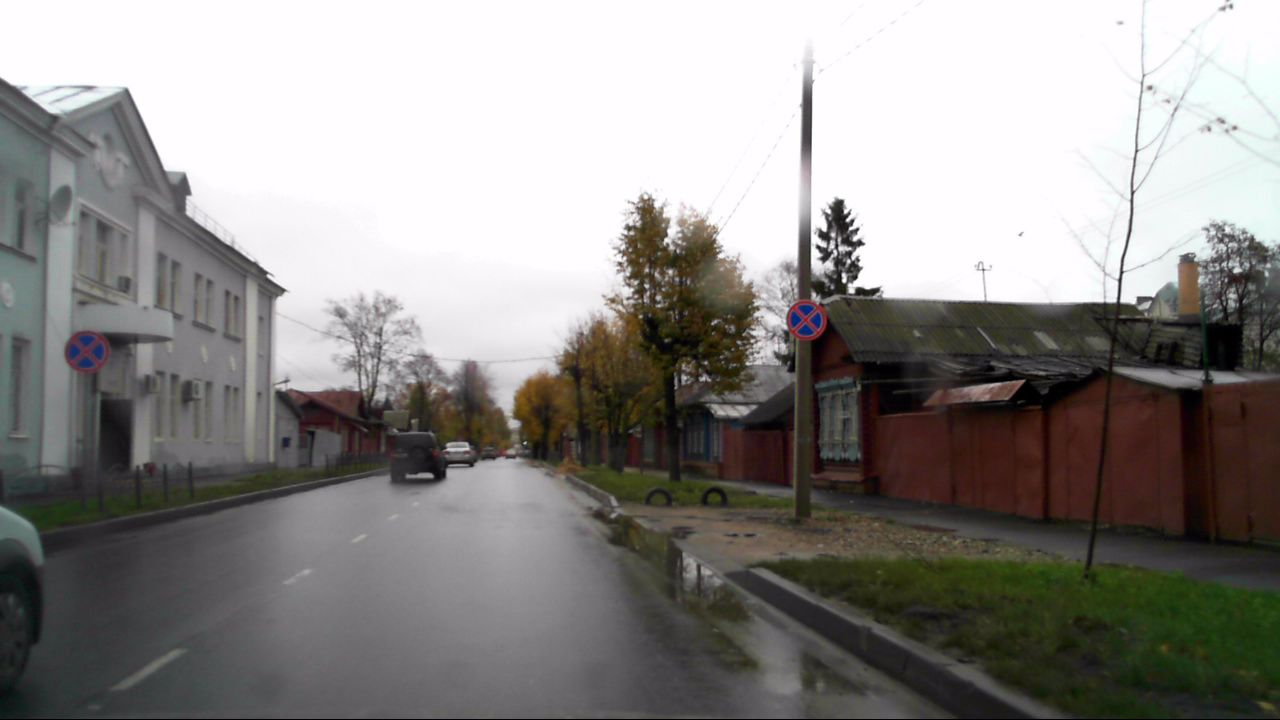No Parking: (786, 300, 826, 341)
